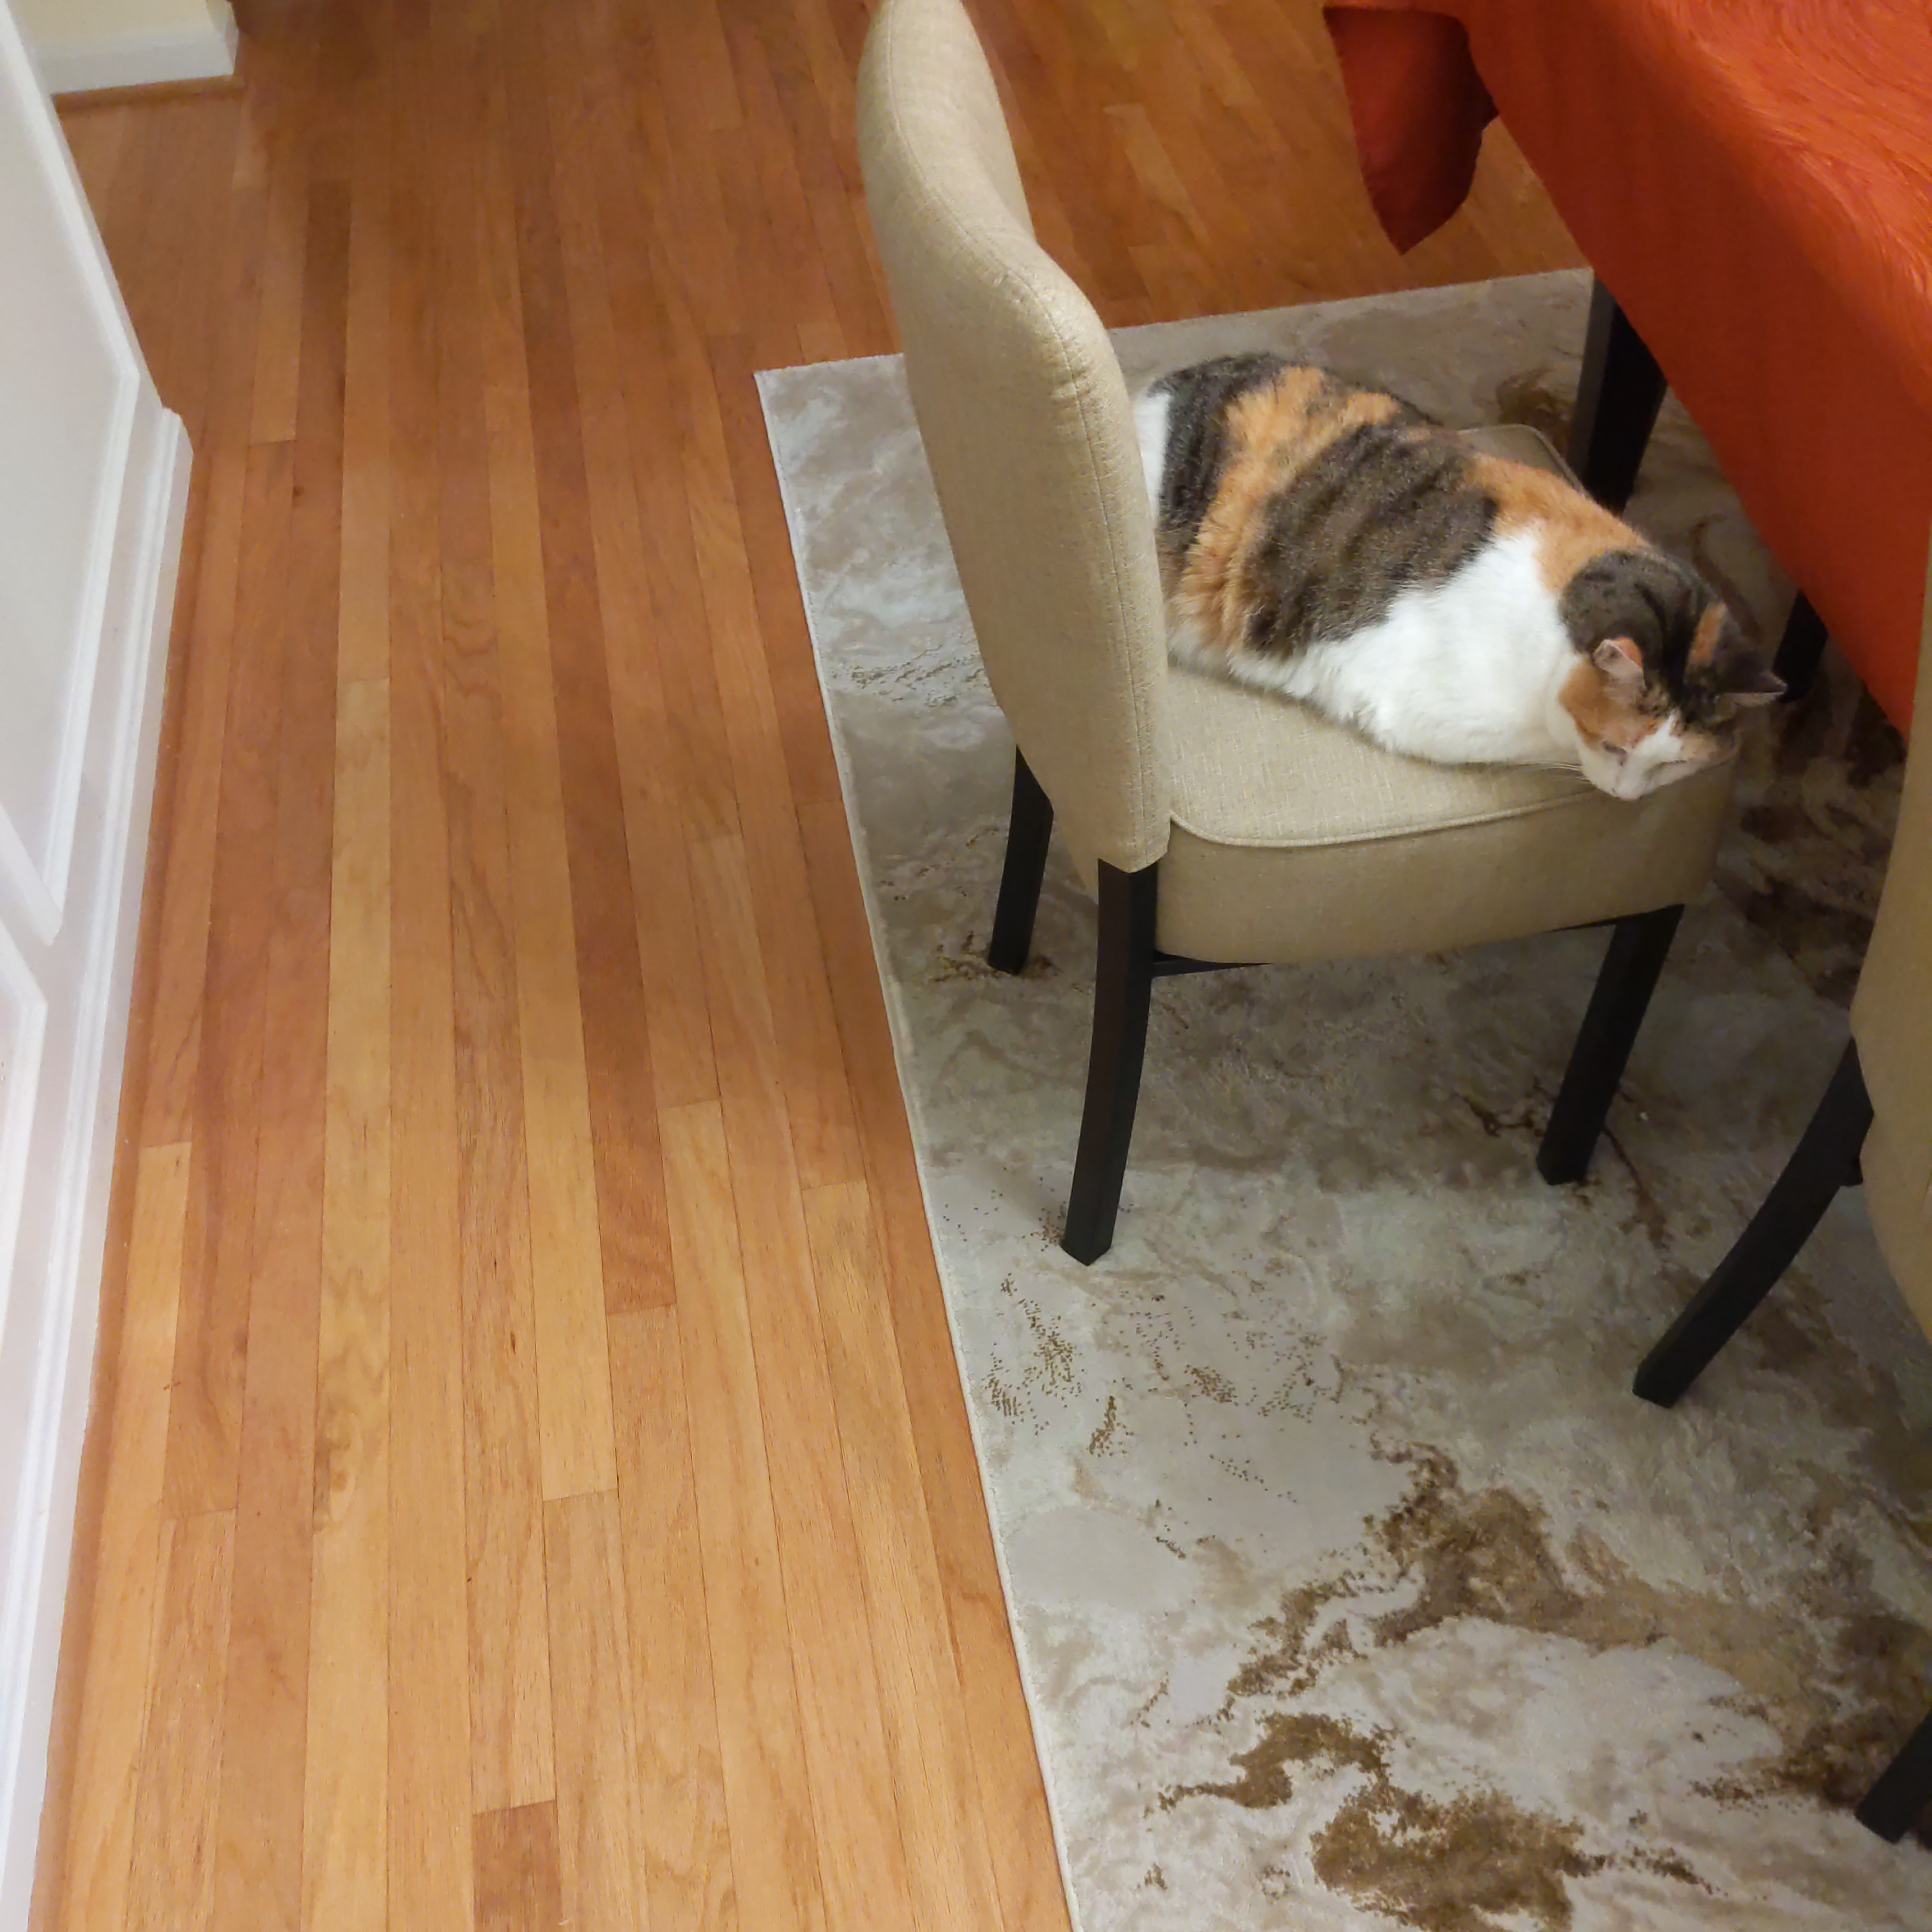Calico: (1132, 352, 1789, 801)
